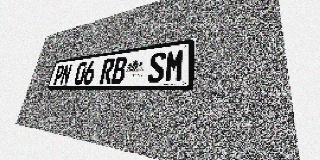0: (73, 62, 88, 85)
6: (82, 60, 97, 85)
B: (111, 56, 128, 84)
M: (164, 49, 185, 83)
N: (59, 64, 73, 85)
P: (52, 65, 65, 85)
R: (99, 58, 115, 84)
S: (147, 51, 167, 83)
